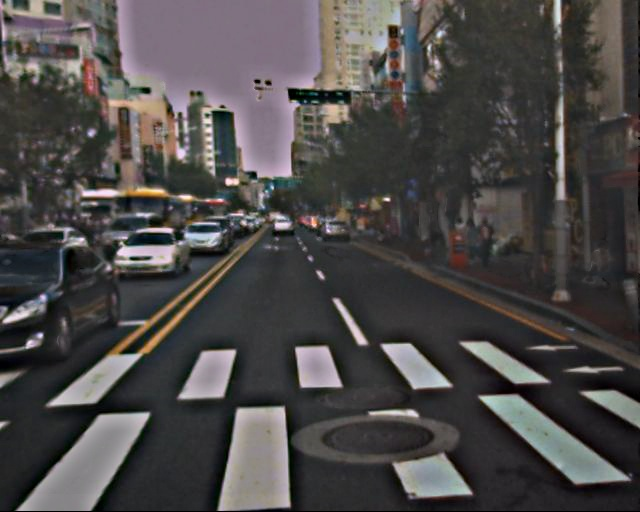person: (584, 244, 620, 289), (475, 218, 497, 272), (461, 219, 480, 266), (425, 215, 440, 252), (413, 213, 427, 247)
